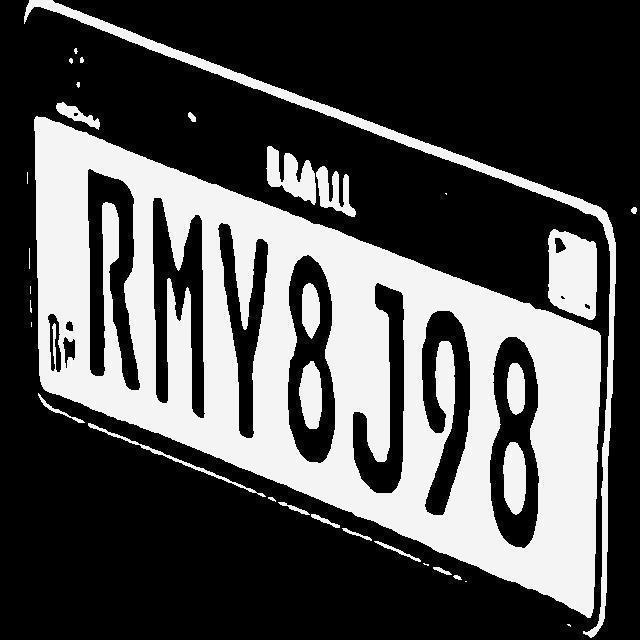8: (488, 334, 542, 550), (288, 252, 338, 474)
9: (421, 302, 474, 520)
j: (352, 280, 413, 495)
m: (146, 192, 210, 420)
r: (82, 168, 145, 396)
y: (216, 219, 272, 438)
